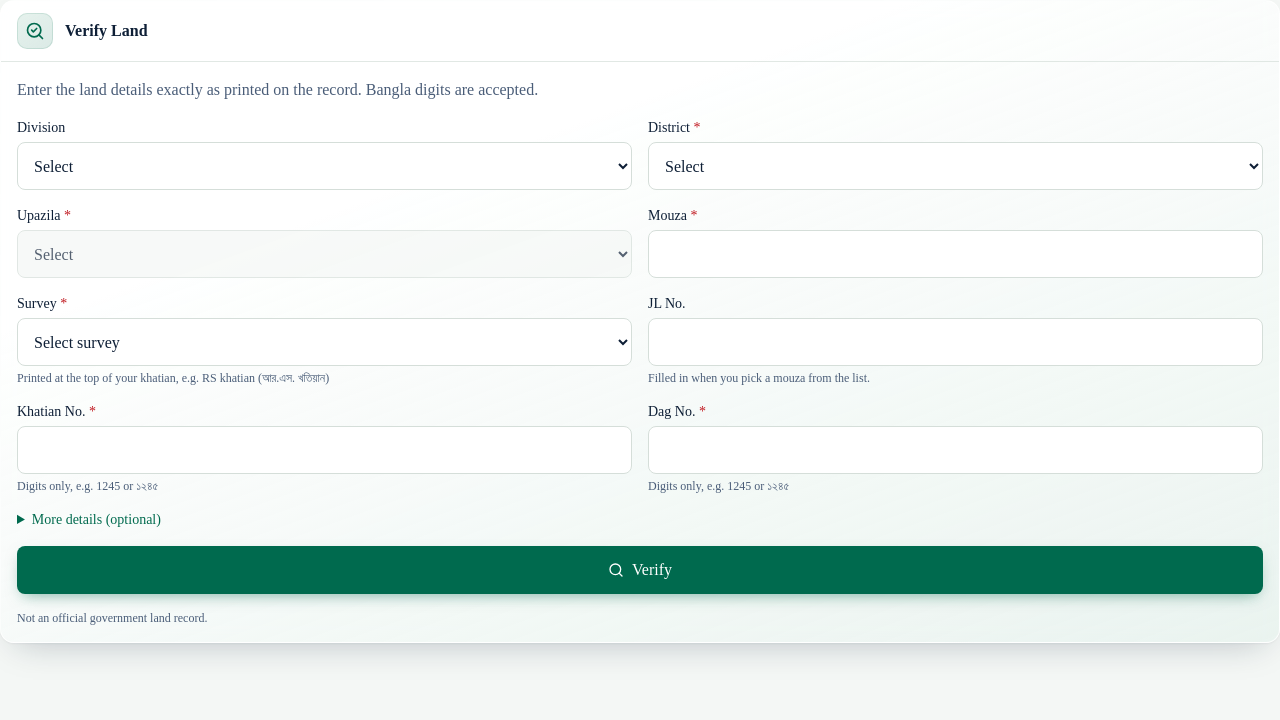
VerifyForm › MOUZA_AMBIGUOUS lists the JL options in the chooser
Step 1. Select "Gazipur (গাজীপুর)" in the dropdown labelled "District *" → coordinates (956, 166), box [648,142,1263,190]
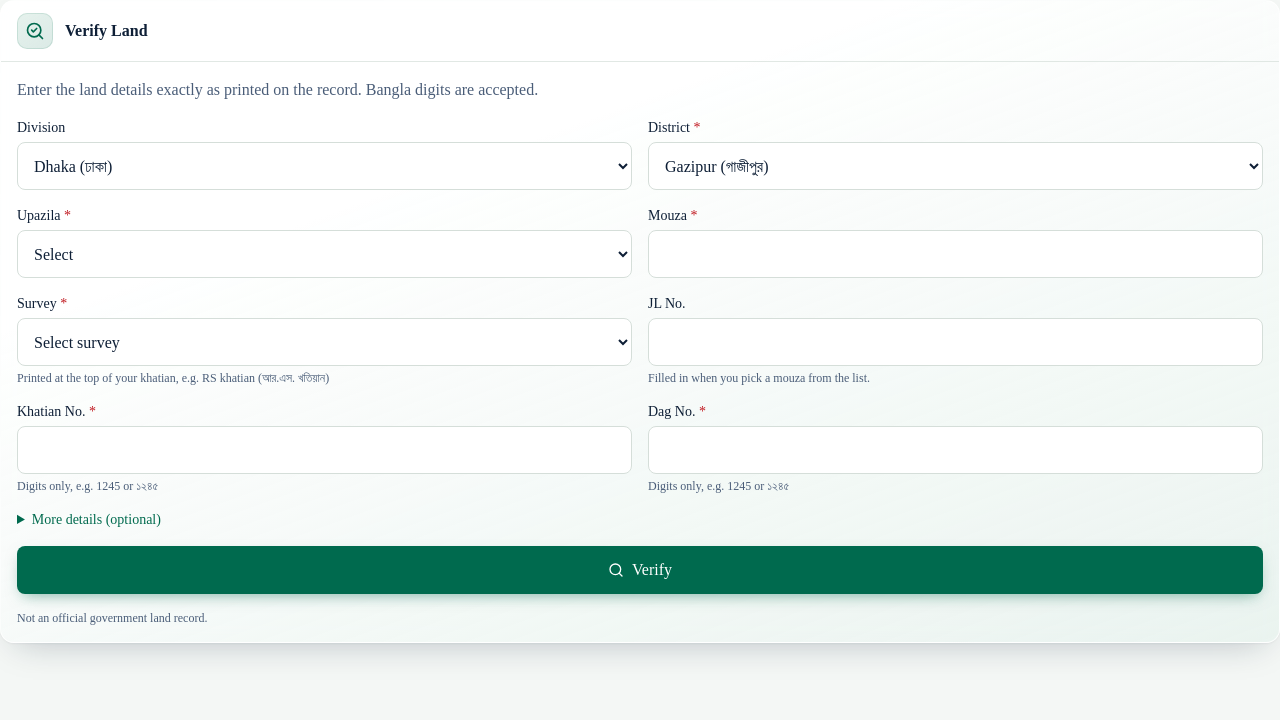
Step 2. Select "Sreepur (শ্রীপুর)" in the dropdown labelled "Upazila *" → coordinates (324, 254), box [17,230,632,278]
Step 3. Type "Barmi" into the field labelled "Mouza *" → coordinates (956, 254), box [648,230,1263,278]
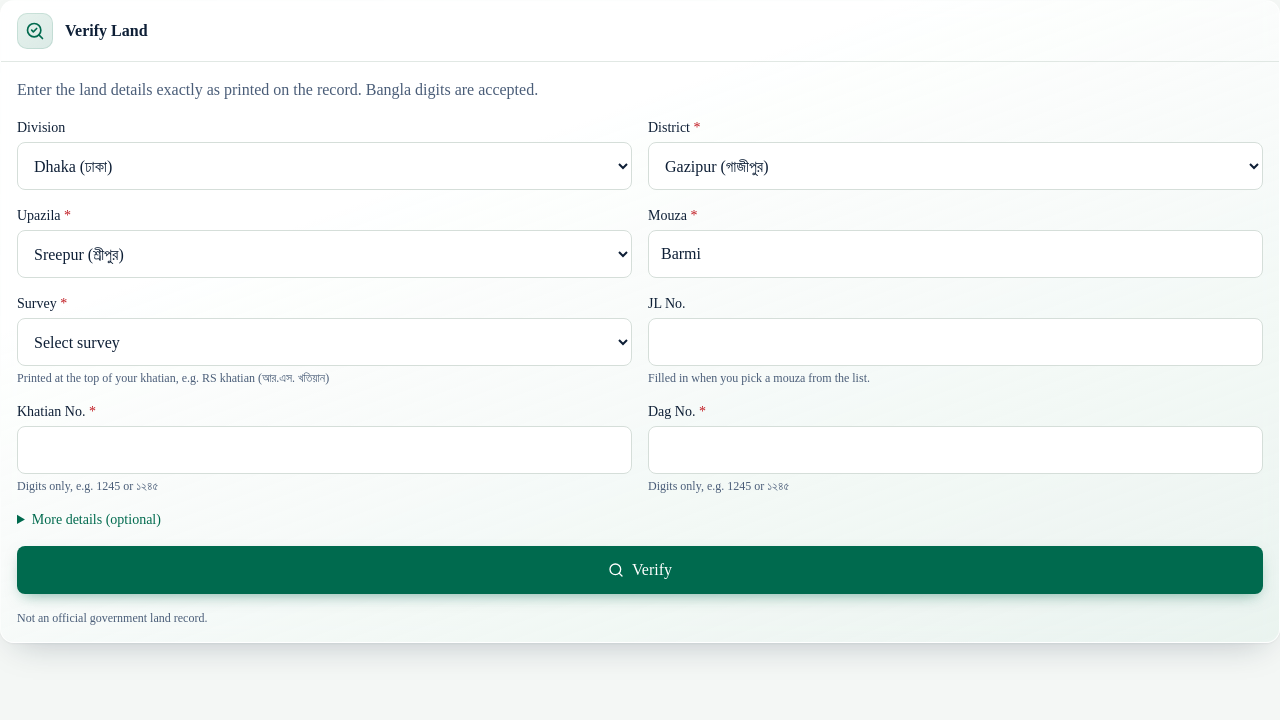
Step 4. Select "RS (Revisional)" in the dropdown labelled "Survey *" → coordinates (324, 342), box [17,318,632,366]
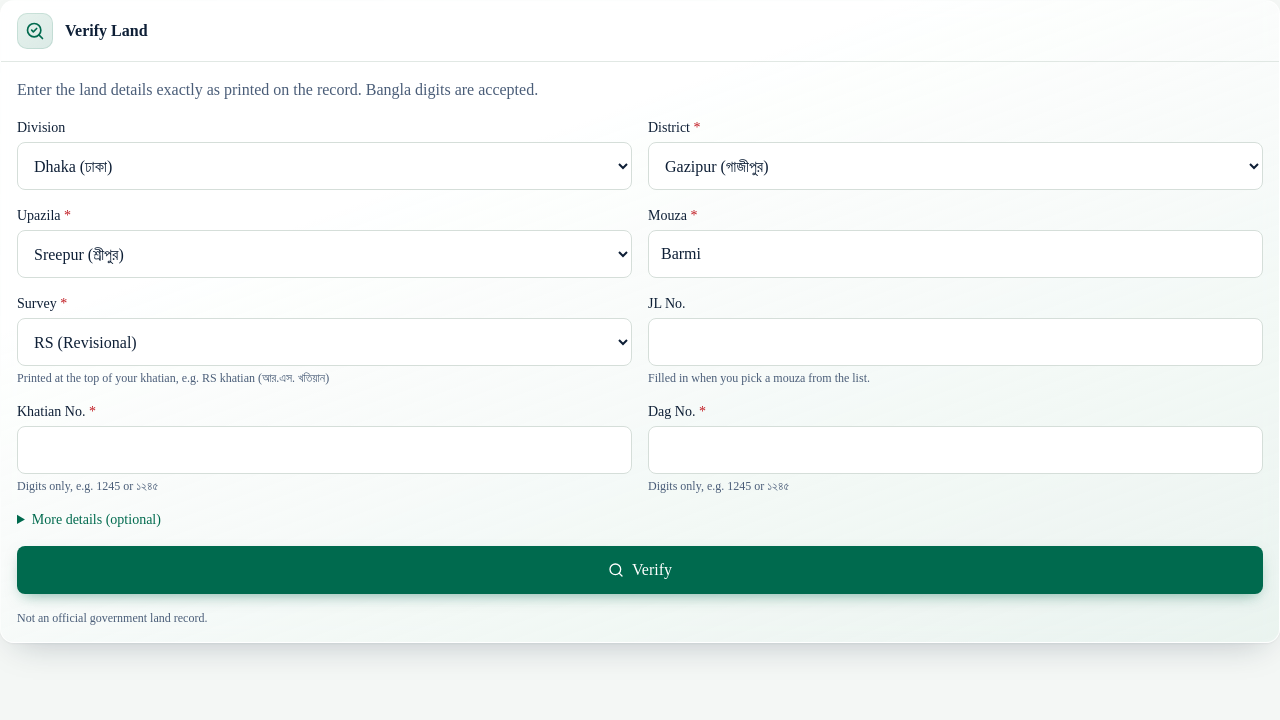
Step 5. Type "১২৪৫" into the field labelled "Khatian No. *" → coordinates (324, 450), box [17,426,632,474]
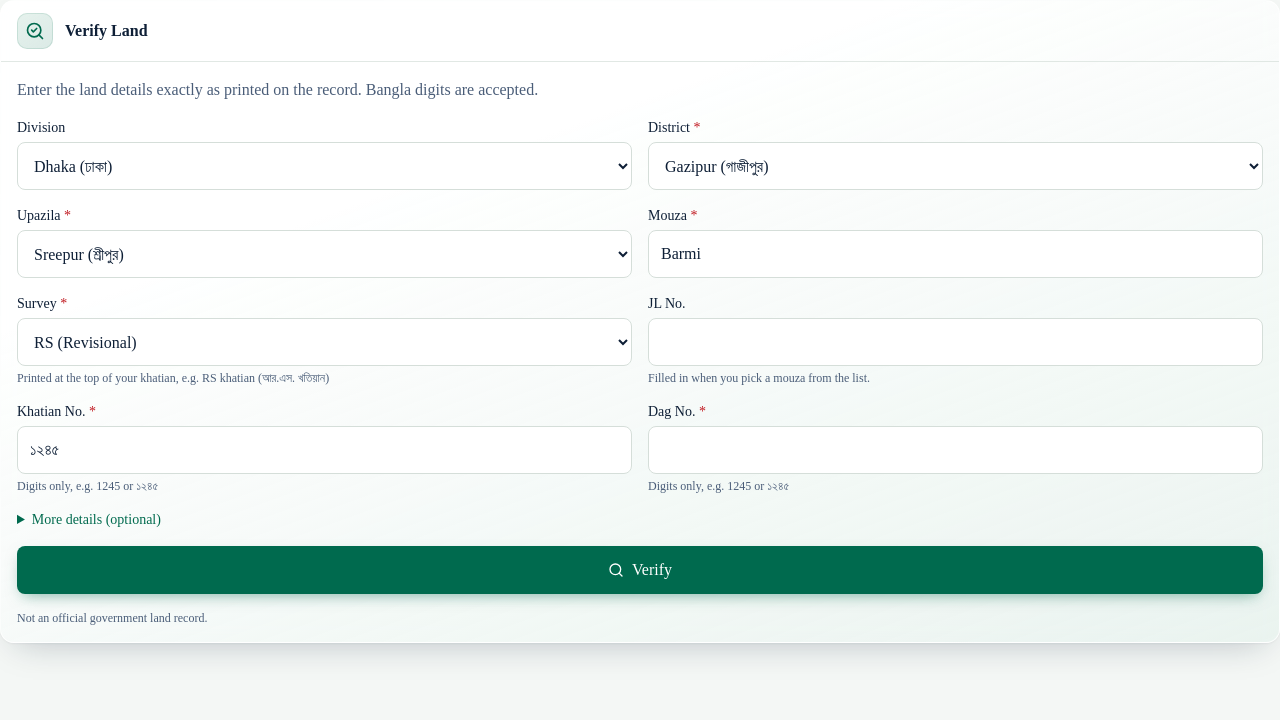
Step 6. Type "785" into the field labelled "Dag No. *" → coordinates (956, 450), box [648,426,1263,474]
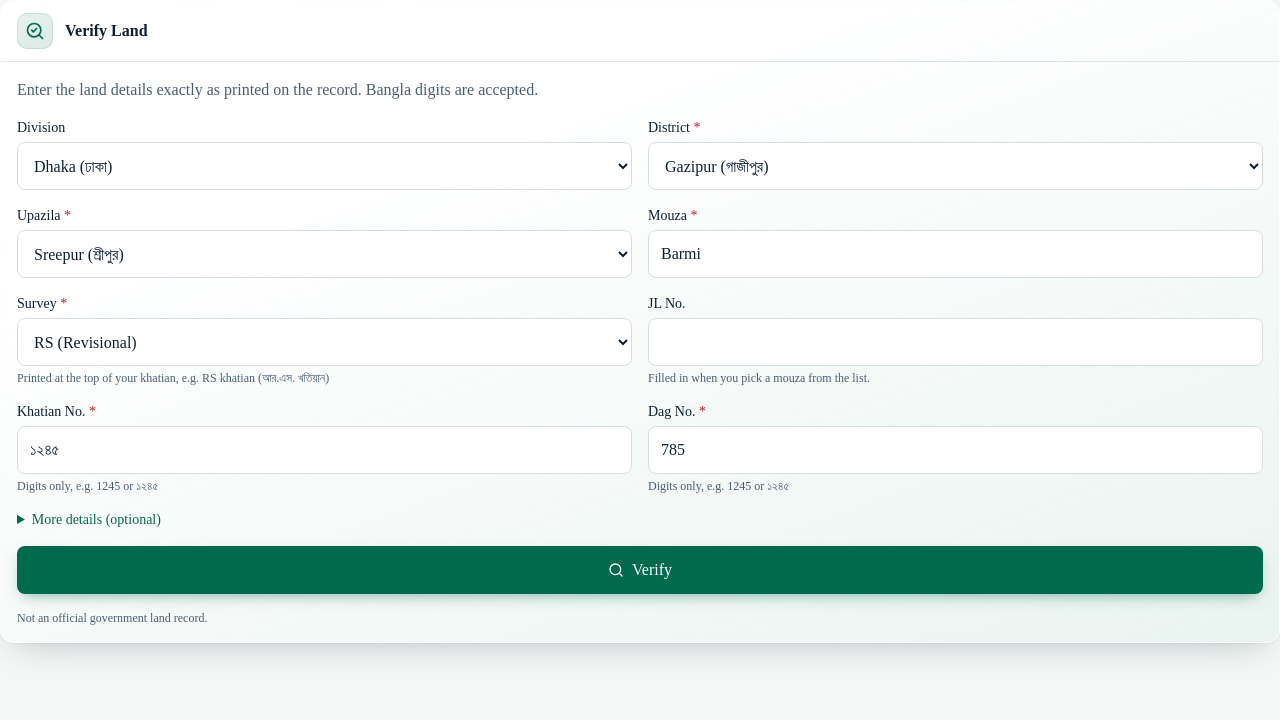
Step 7. Click the button "Verify" → coordinates (640, 570), box [17,546,1263,594]
(page scrolled)
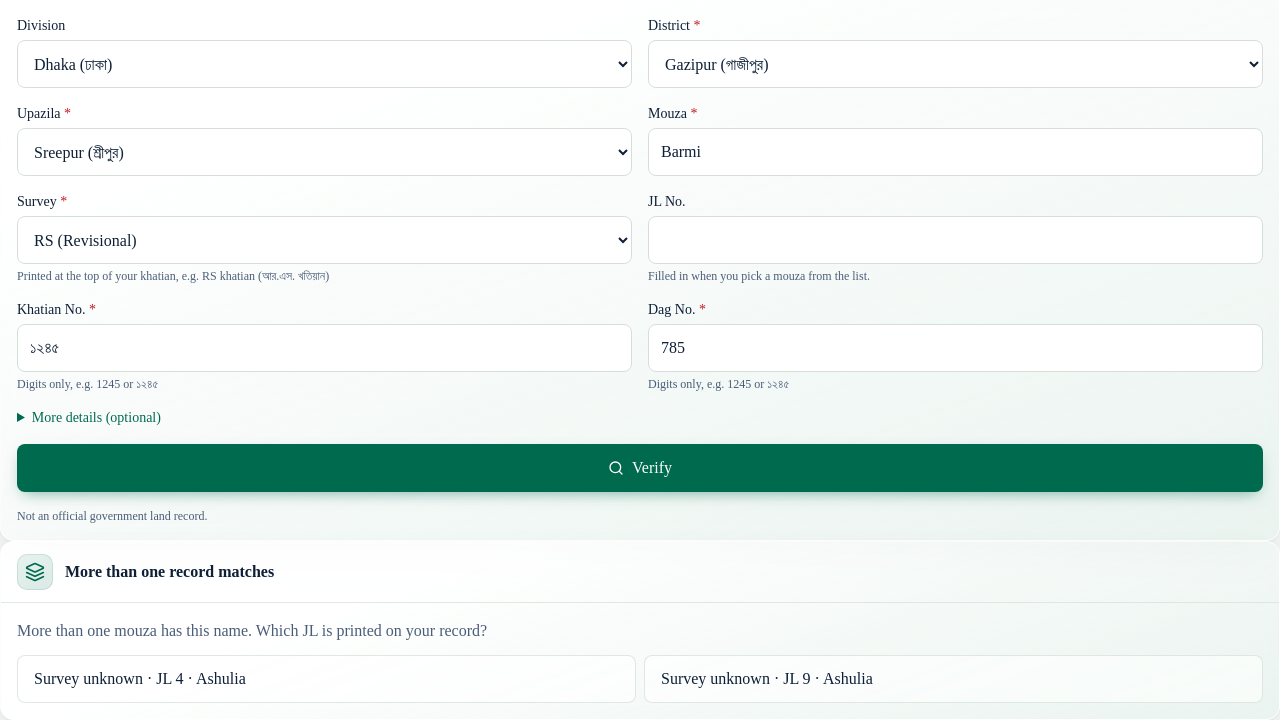
Now the message with test id "ambiguous-chooser" shows "More than one mouza has this name. Which JL is printed on your record?", box [17,622,487,639]
Now the button with test id "chooser-option" shows "JL 9", box [644,655,1263,703]
